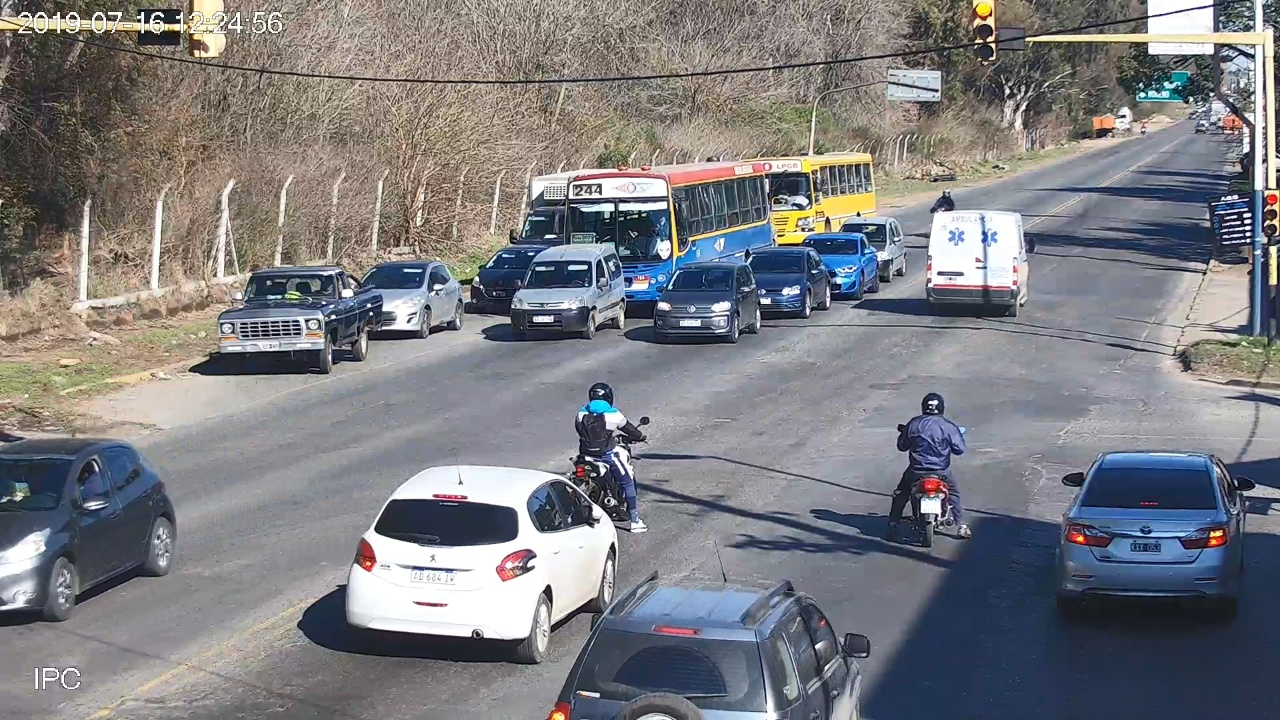car: (550, 570, 871, 720), (1055, 451, 1255, 611)
front car: (511, 244, 626, 339), (654, 263, 760, 343)
motorcycle: (888, 422, 972, 548)
traffic light: (973, 1, 996, 60), (1264, 189, 1280, 238)
